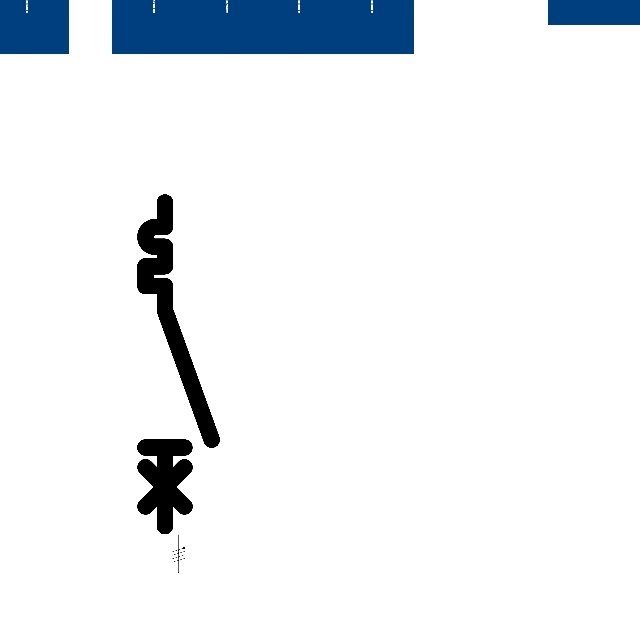interruptor_termomagnetico: (137, 194, 220, 534)
